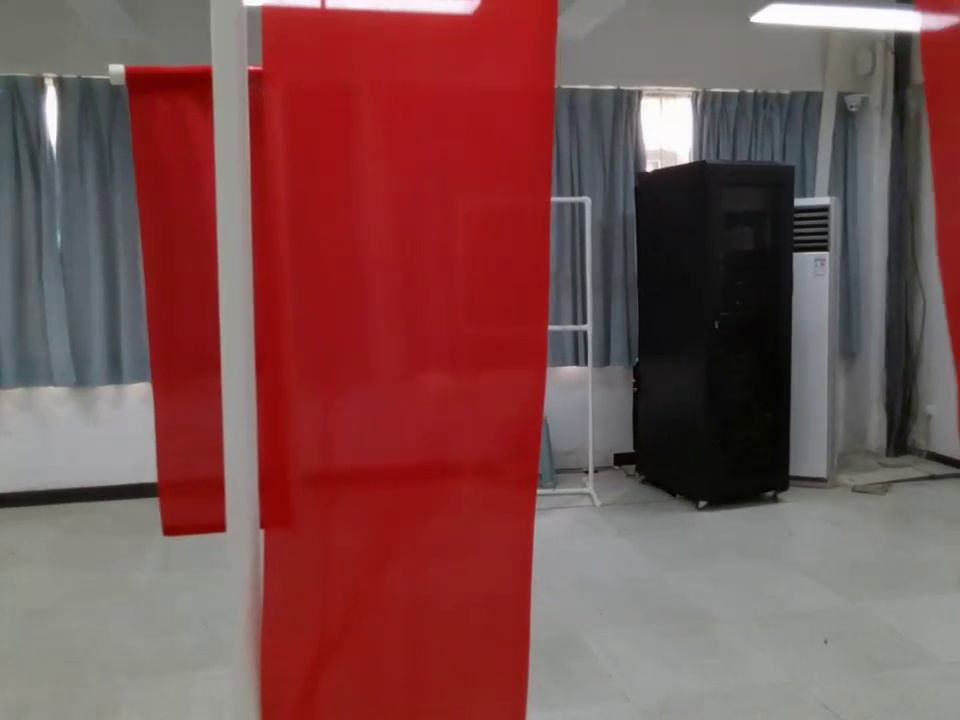qi: (205, 1, 560, 720), (107, 58, 278, 536)
